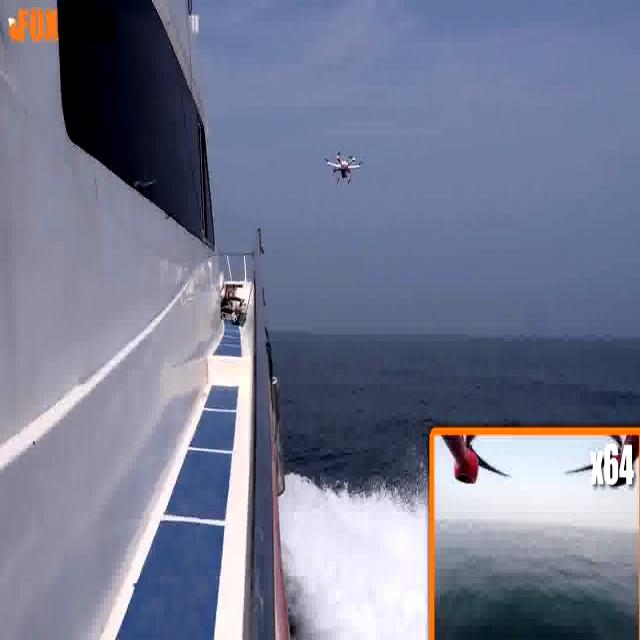drone: (321, 140, 367, 191)
